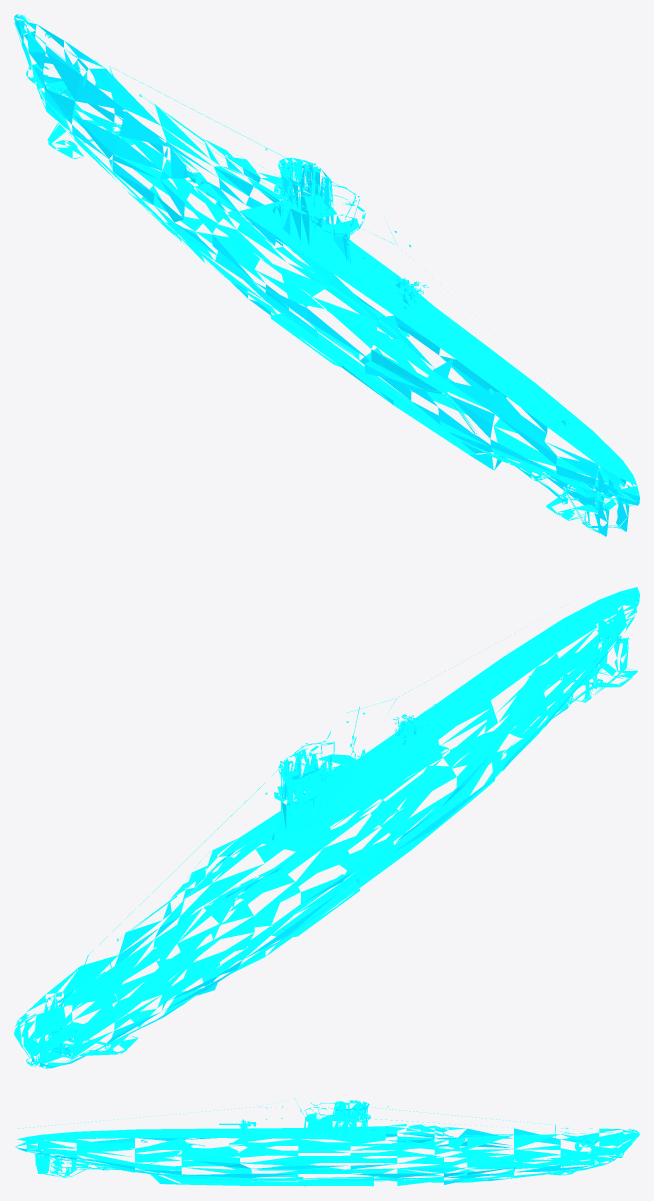
File: PGSS106.glb
The picture shows the model from 3 angles, top to bottom: view 1: azimuth 30°, elevation 25°; view 2: azimuth 150°, elevation 25°; view 3: azimuth 270°, elevation 25°; orthographic projection. The views are drawn at different scales.
Parts seen in each view (by area): view 1: hull; view 2: hull; view 3: hull, turret.
Part boxes in pixels (x1,y1,x2,y2): hull: (14, 14, 639, 536); hull: (14, 587, 639, 1068); hull: (15, 1097, 639, 1186); turret: (219, 1119, 256, 1134).
Bounding box in the file's own units: 0.4035 × 0.6812 × 4.47.
